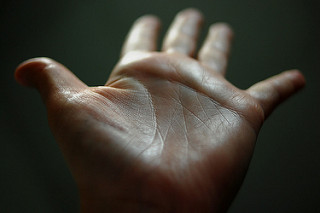palm: (92, 56, 246, 199)
